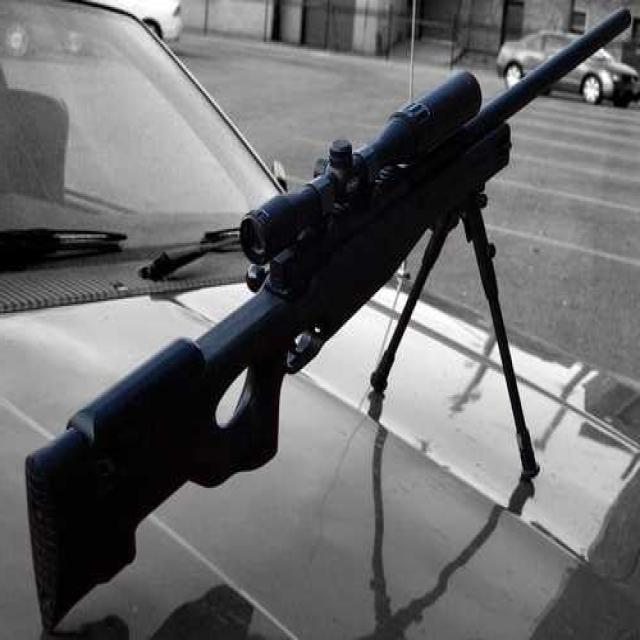heavyweapon: (19, 1, 640, 632)
